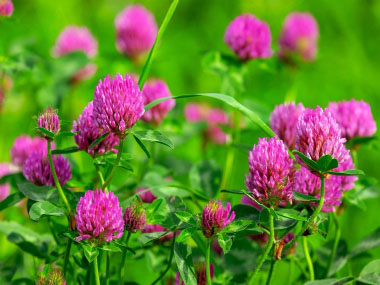clover: (22, 61, 370, 279)
